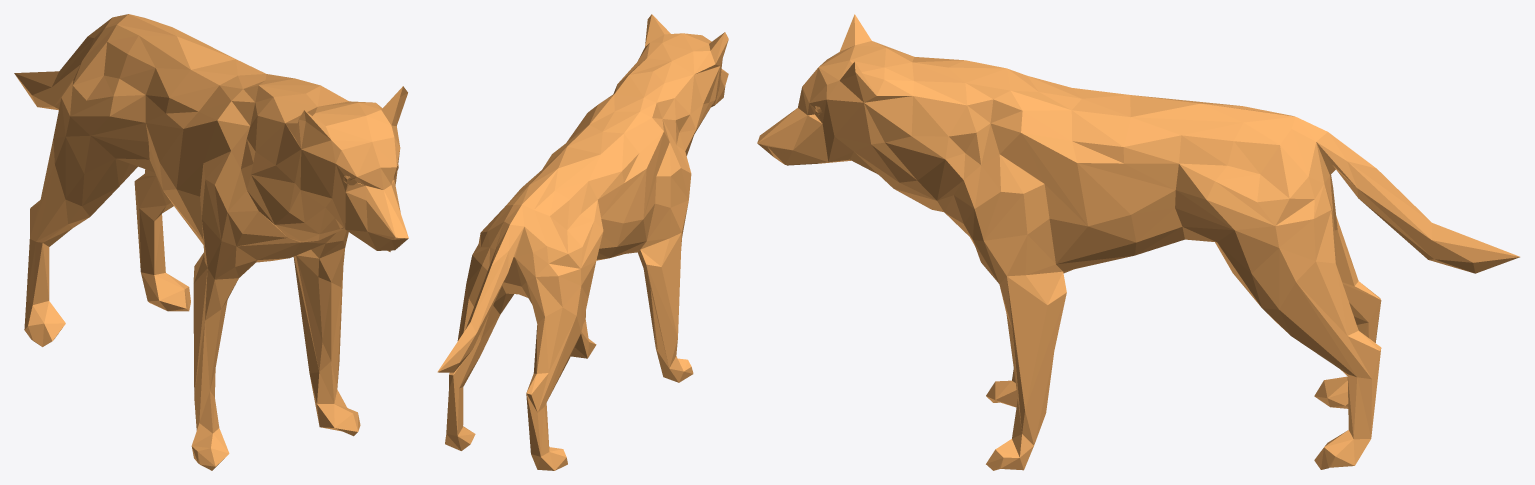
Rendered from dog.gltf.
3 renders of one model, left to right at view 1: azimuth 30°, elevation 25°; view 2: azimuth 150°, elevation 25°; view 3: azimuth 270°, elevation 25°, orthographic. The views are drawn at different scales.
Visible parts, largest first — view 1: root; view 2: root; view 3: root.
Part boxes in pixels (x1,y1,x2,y2): root: (14,14,408,470); root: (437,14,728,470); root: (757,14,1519,470).
Bounding box in the file's own units: 0.7745 × 1.86 × 3.23.
